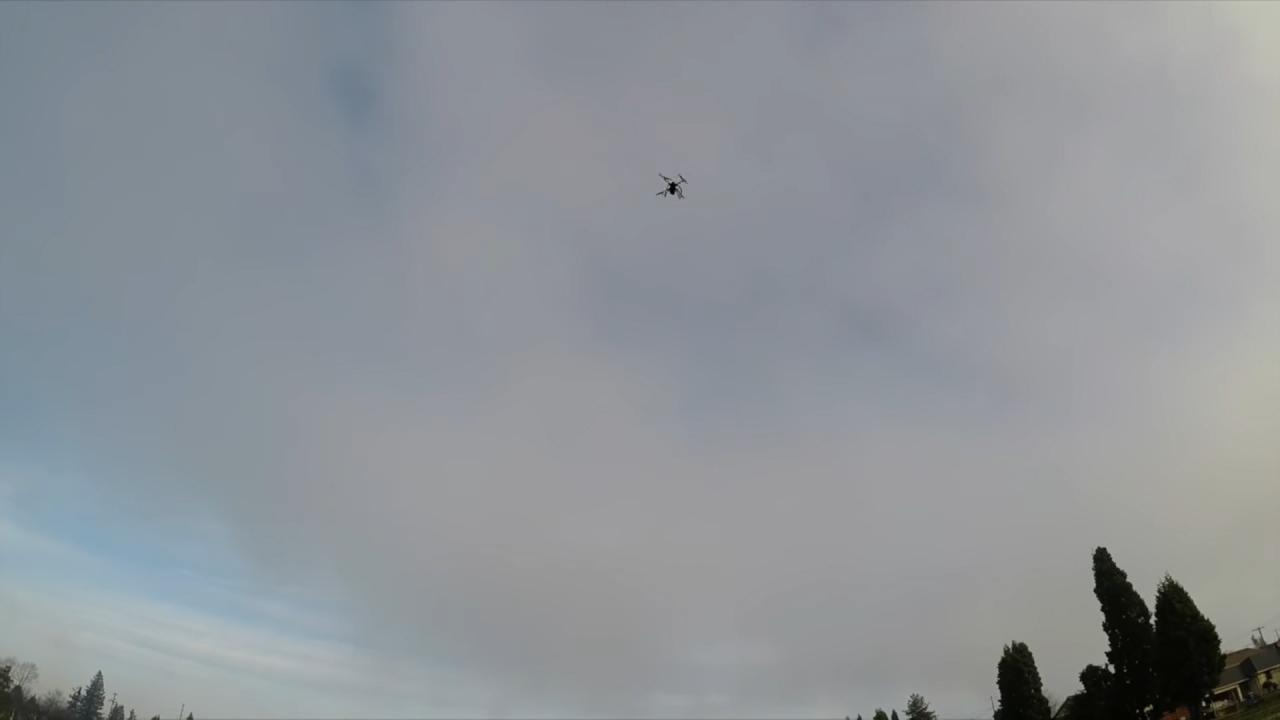Drone: (651, 166, 697, 208)
